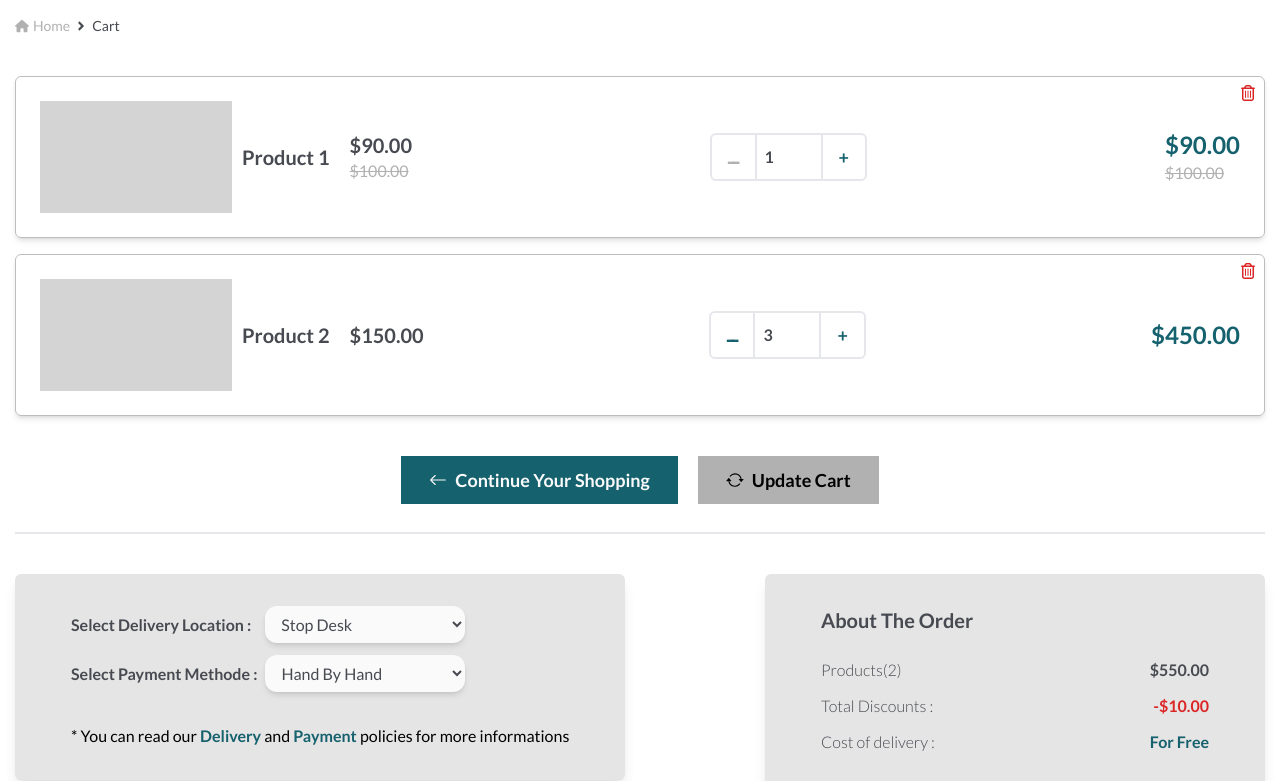
Test: CartBody Component › enable update cart button when quantity is changed
Check: the button "update cart" is disabled, box [698,456,879,504]
Replace the text in the number field in the row of "Product 1" with "5" at (789,157), box [757,137,821,177]
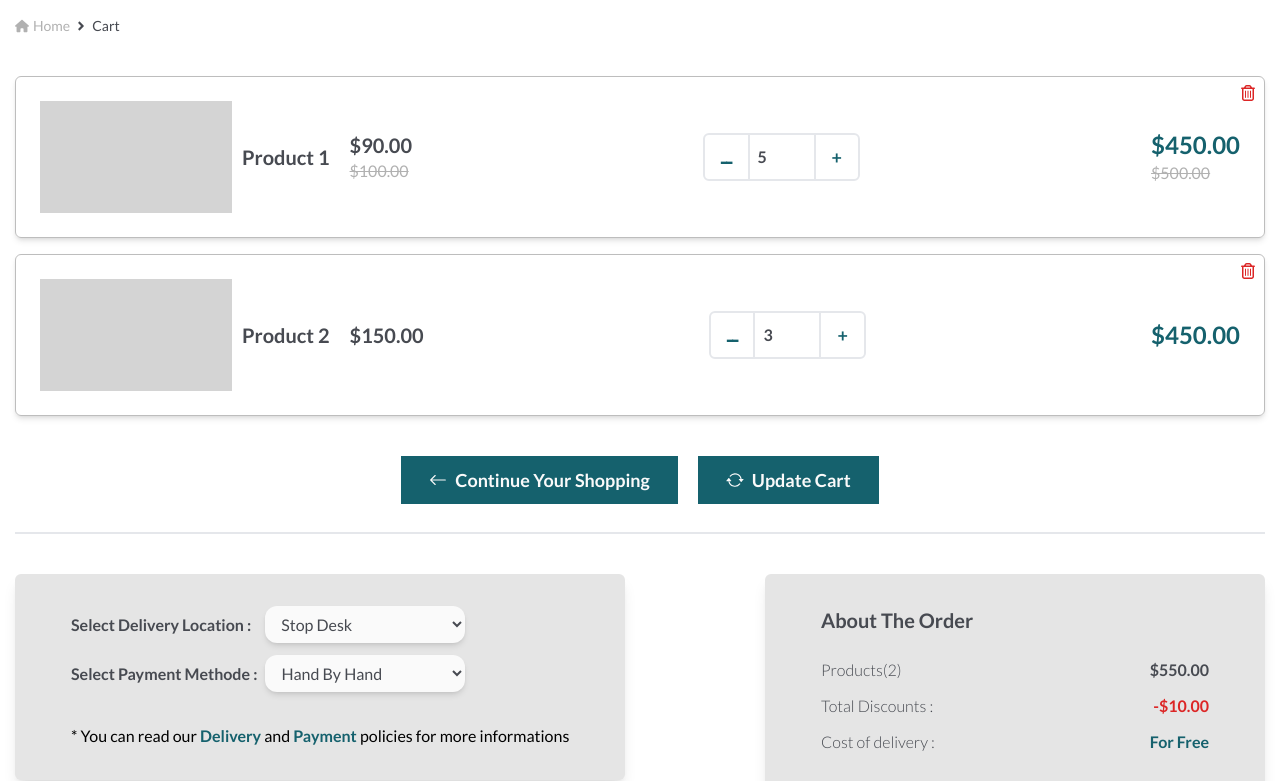
Check: the button "update cart" is enabled, box [698,456,879,504]
